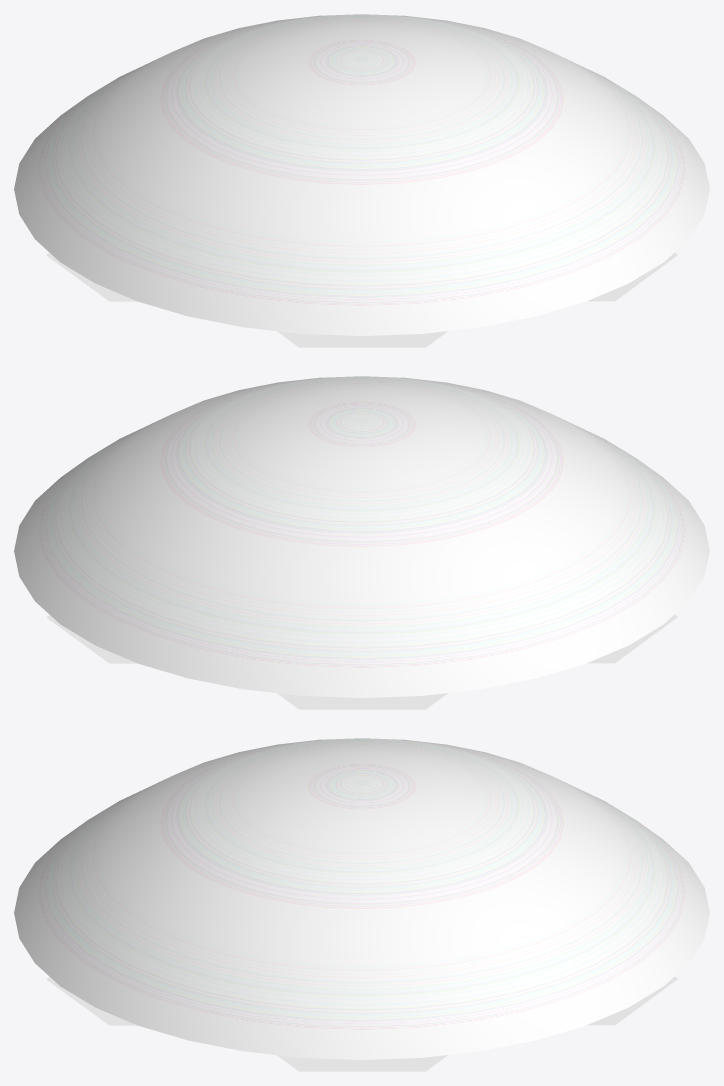
Rendered from eff_Barrier_00.FBX.
3 renders of one model, top to bottom at view 1: azimuth 30°, elevation 25°; view 2: azimuth 150°, elevation 25°; view 3: azimuth 270°, elevation 25°, orthographic.
Visible parts, largest first — view 1: eff_Barrier_01, eff_Barrier_00; view 2: eff_Barrier_01, eff_Barrier_00; view 3: eff_Barrier_01, eff_Barrier_00.
Boxes of the visible parts, x1,y1,x2,y2 form: eff_Barrier_01: [14, 14, 709, 335]; eff_Barrier_00: [46, 252, 677, 347]; eff_Barrier_01: [14, 376, 709, 697]; eff_Barrier_00: [46, 614, 677, 709]; eff_Barrier_01: [14, 738, 709, 1059]; eff_Barrier_00: [46, 976, 677, 1071].
Size of the model in its own units: 130 by 130 by 31.03.
